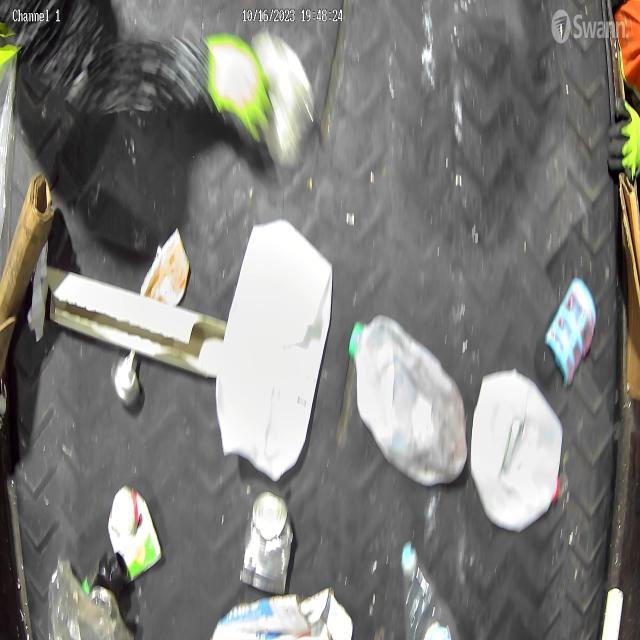can: (239, 489, 294, 598), (108, 484, 163, 584)
milk_jug: (214, 219, 334, 481), (348, 316, 468, 489), (470, 368, 565, 531)
